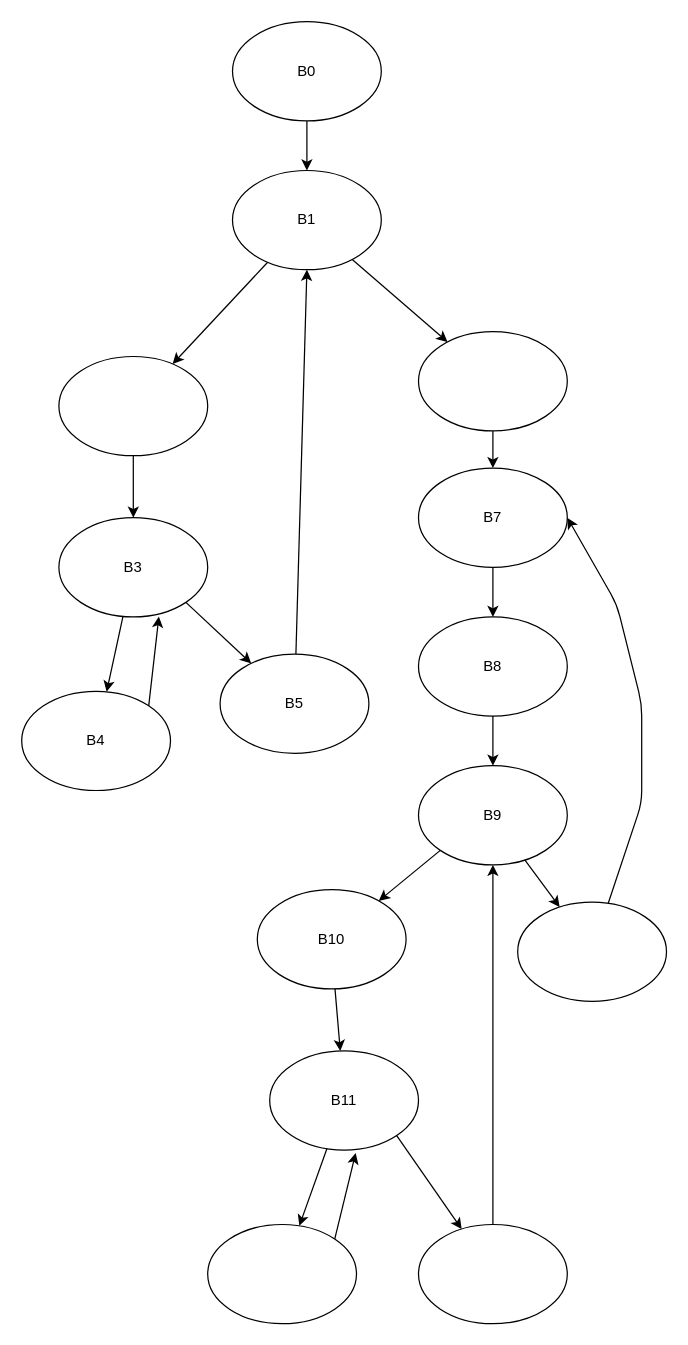
Image size: 688x1345. Some labels were removed from this diagram. Here are the shapes that lost their labels. From the top down, the box of each, then its label:
(417, 330, 567, 431): B6
(58, 355, 208, 456): B2
(516, 901, 666, 1001): B14
(206, 1223, 356, 1324): B12
(417, 1223, 567, 1324): B13
